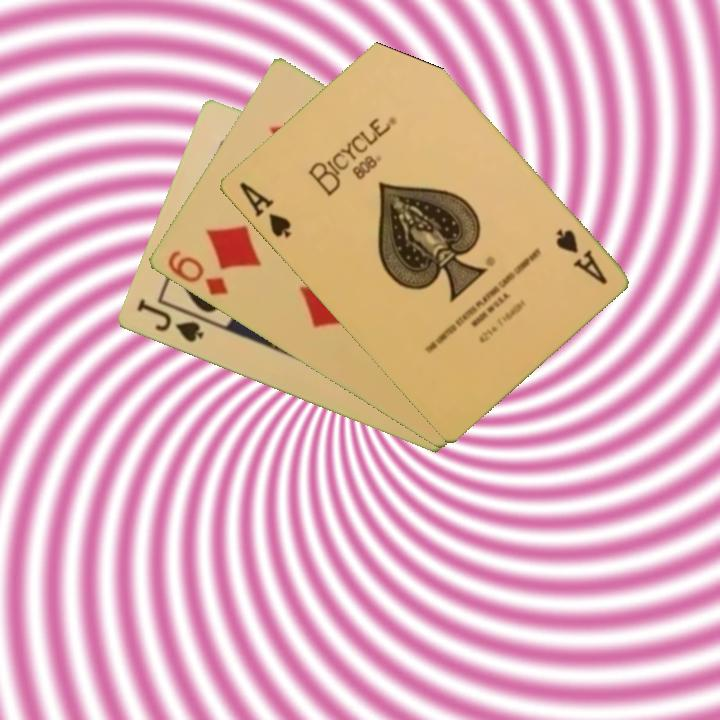6d: (163, 246, 231, 299)
As: (235, 178, 294, 242), (551, 225, 610, 288)
Js: (132, 295, 206, 346)
